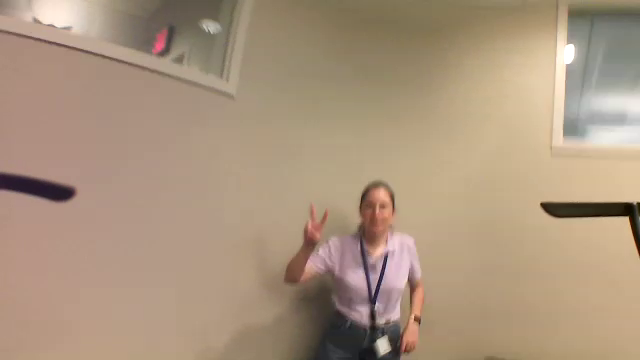peace: (299, 196, 338, 250)
